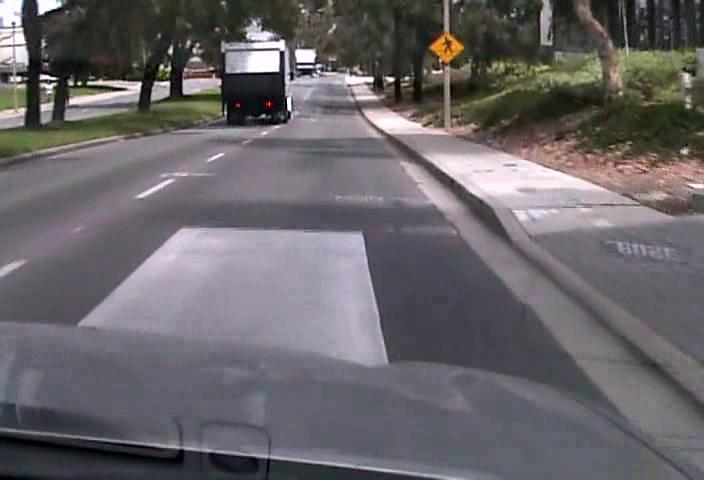pedestrianCrossing: (428, 31, 465, 63)
